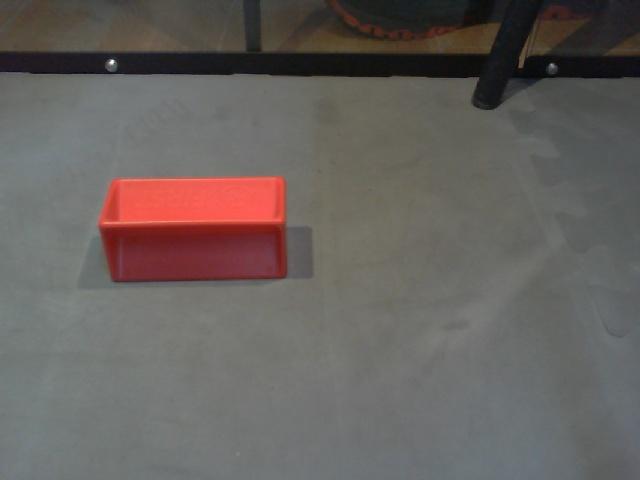RedSample: (95, 173, 292, 284)
